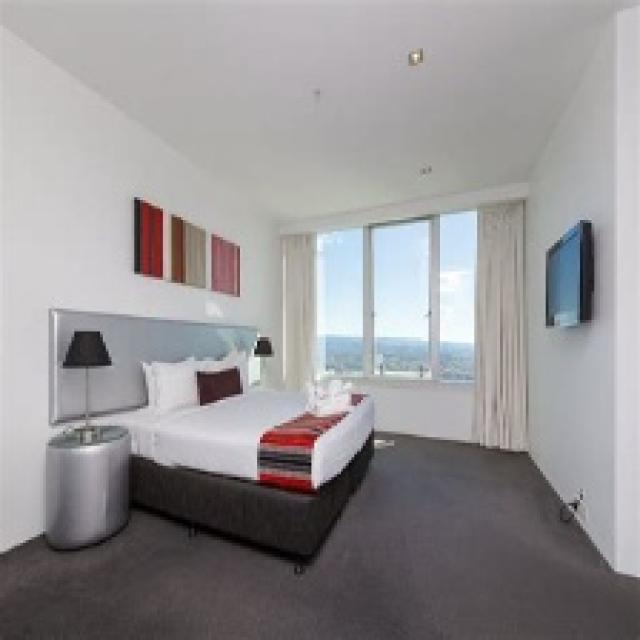Bed: (46, 306, 374, 571)
